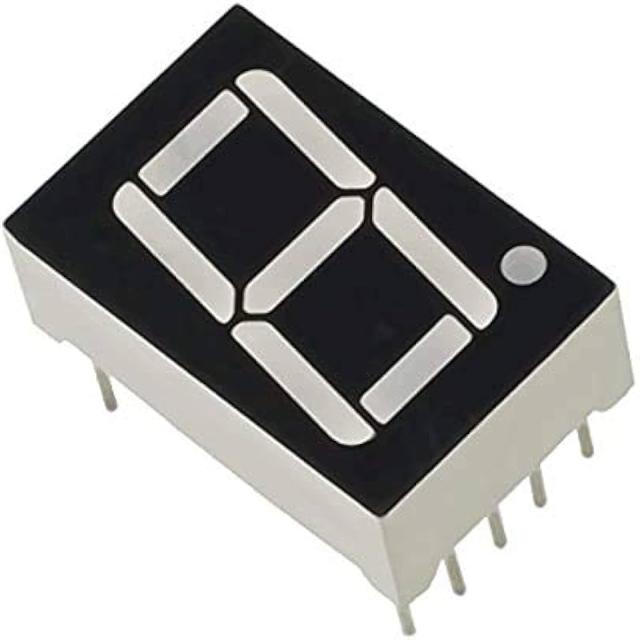Display: (0, 3, 626, 524)
